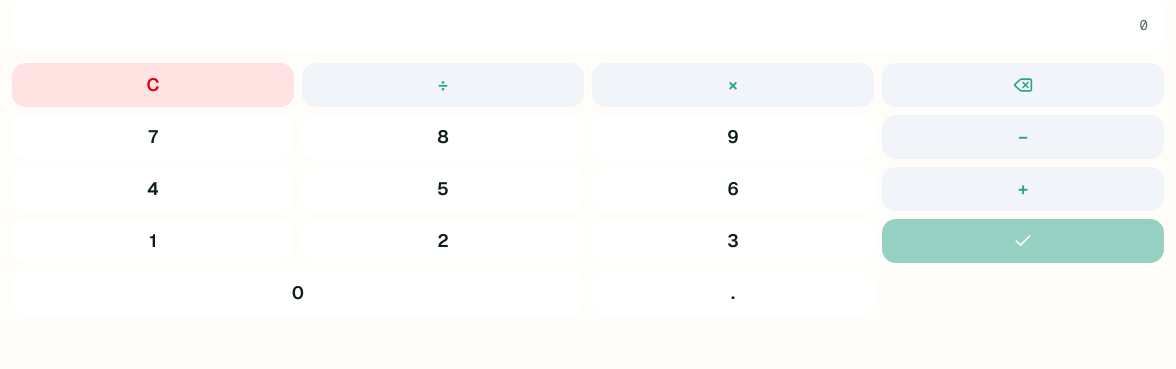
Test case: Calculator Component › number input › should handle decimal numbers
Click the button "1" at (153, 241), box [12,219,294,263]
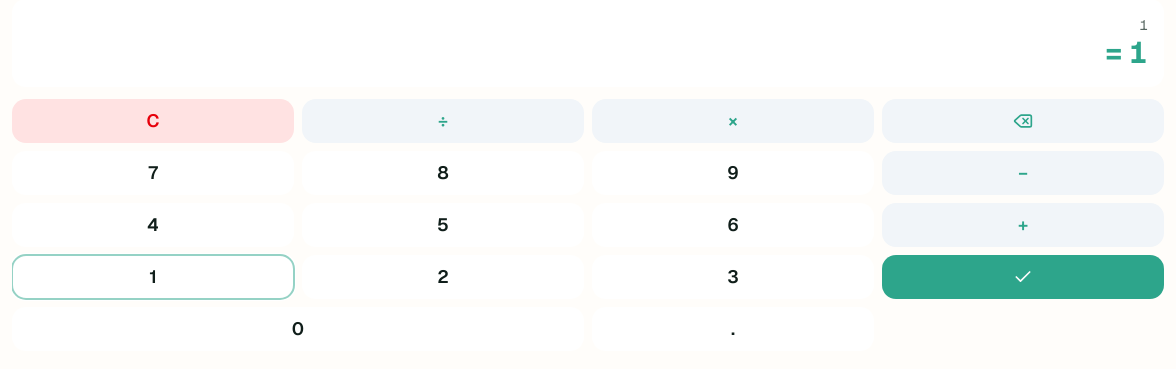
Click the button "." at (733, 329), box [592,307,874,351]
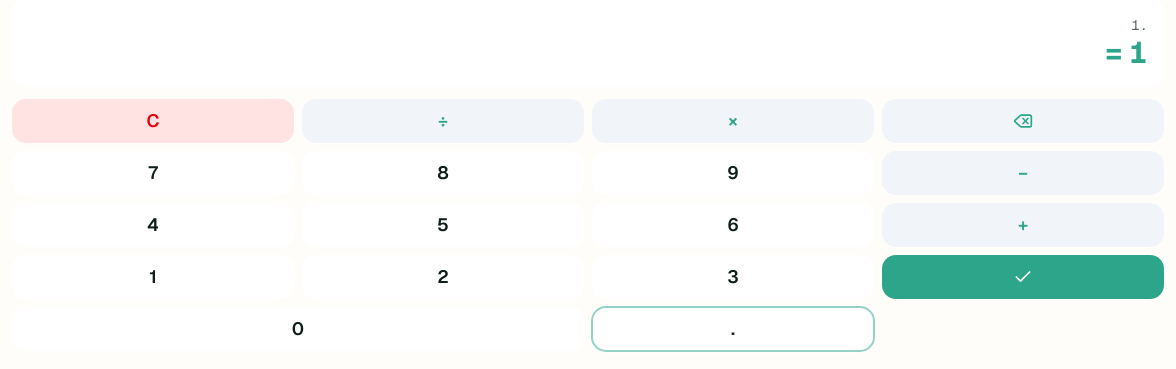
Click the button "5" at (443, 225), box [302,203,584,247]
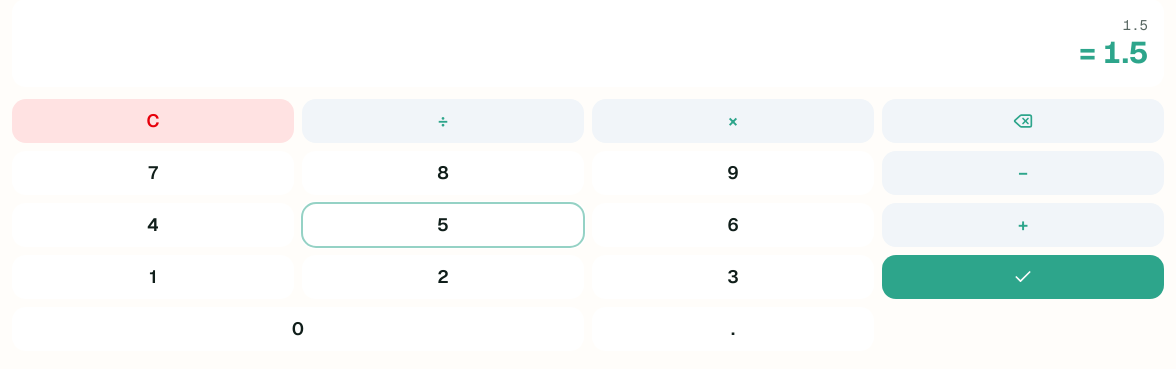
Expected: the text "1.5" is shown, [1123,16,1148,34]
Expected: the text "= 1.5" is shown, [1079,33,1148,72]
